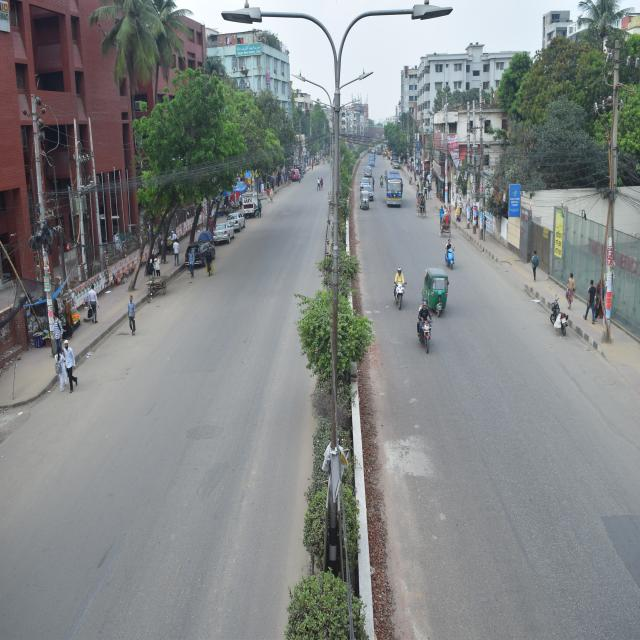bus: (381, 151, 410, 223)
car: (186, 232, 213, 266), (216, 218, 237, 248), (237, 191, 260, 211), (226, 209, 245, 233), (356, 184, 379, 200), (291, 168, 300, 182)
motorbike: (436, 235, 470, 286), (547, 297, 577, 340), (416, 305, 438, 355), (386, 268, 405, 306)
